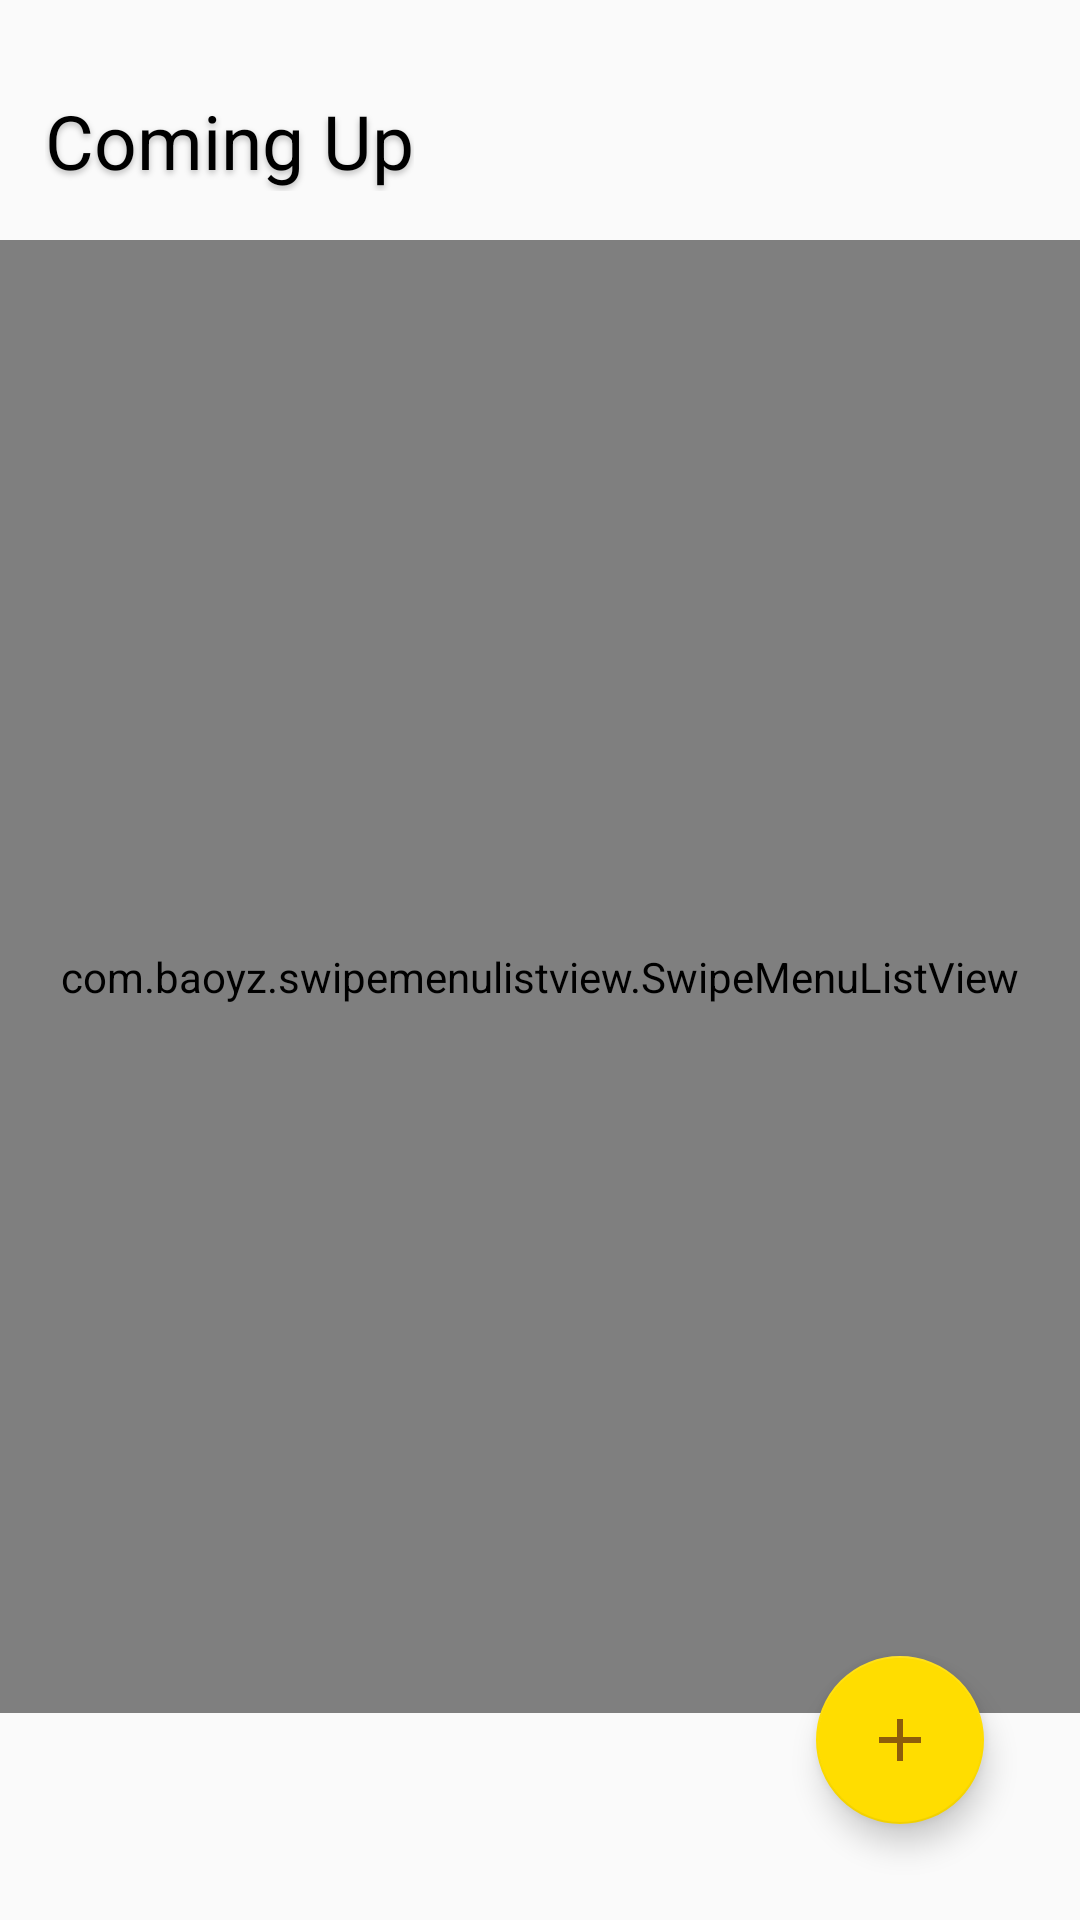

Named icons in this screenshot (1080 × 1920) and their centers, point (x, y):
add brown: point (900, 1740)
